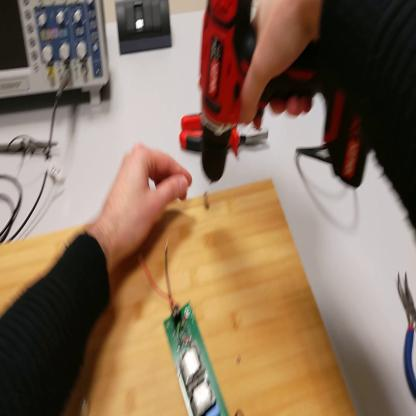electric screwdriver: (195, 1, 368, 197)
hand: (101, 146, 194, 262), (238, 2, 319, 127)
high voltage board: (138, 241, 243, 413)
oscilloscope: (2, 2, 111, 111)
oscilloscope probe tip: (1, 138, 57, 159)
pliers: (181, 113, 270, 157), (397, 273, 416, 398)
working area: (2, 183, 357, 415)
